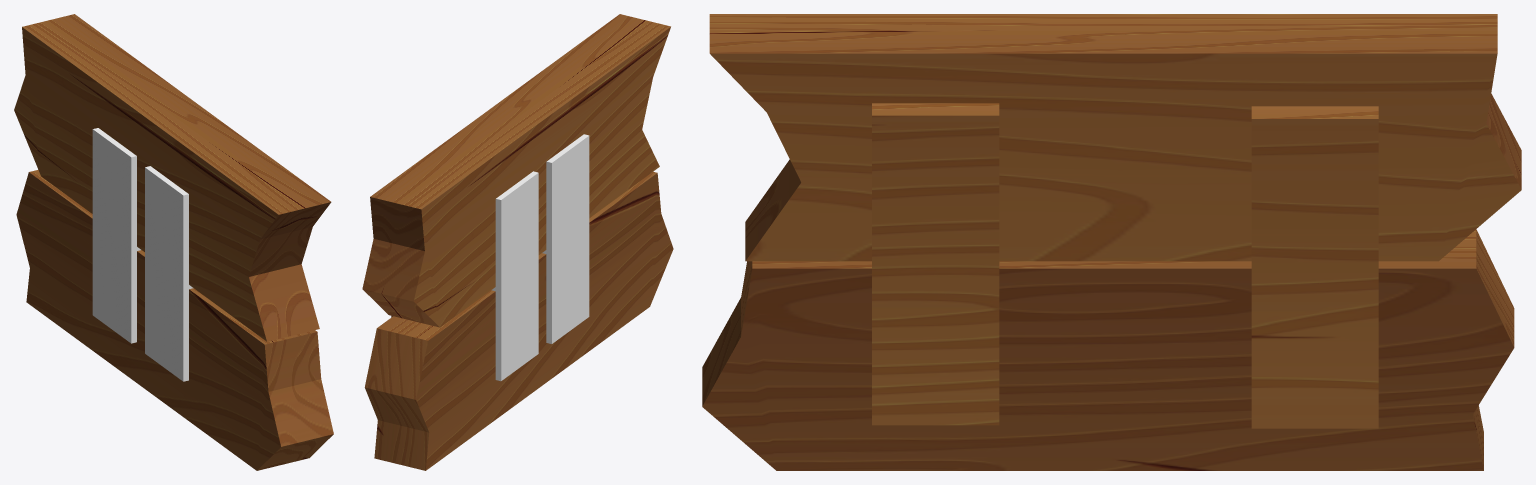
File: Pause_Sign.fbx
3 renders of one model, left to right at view 1: azimuth 30°, elevation 25°; view 2: azimuth 150°, elevation 25°; view 3: azimuth 270°, elevation 25°, orthographic. The views are drawn at different scales.
Parts seen in each view (by area): view 1: Sign; view 2: Sign; view 3: Sign.
Part boxes in pixels (<box>): Sign: <box>14,14,333,470</box>; Sign: <box>362,14,673,470</box>; Sign: <box>702,14,1521,470</box>.
Size of the model in its own units: 98.99 by 343 by 610.
